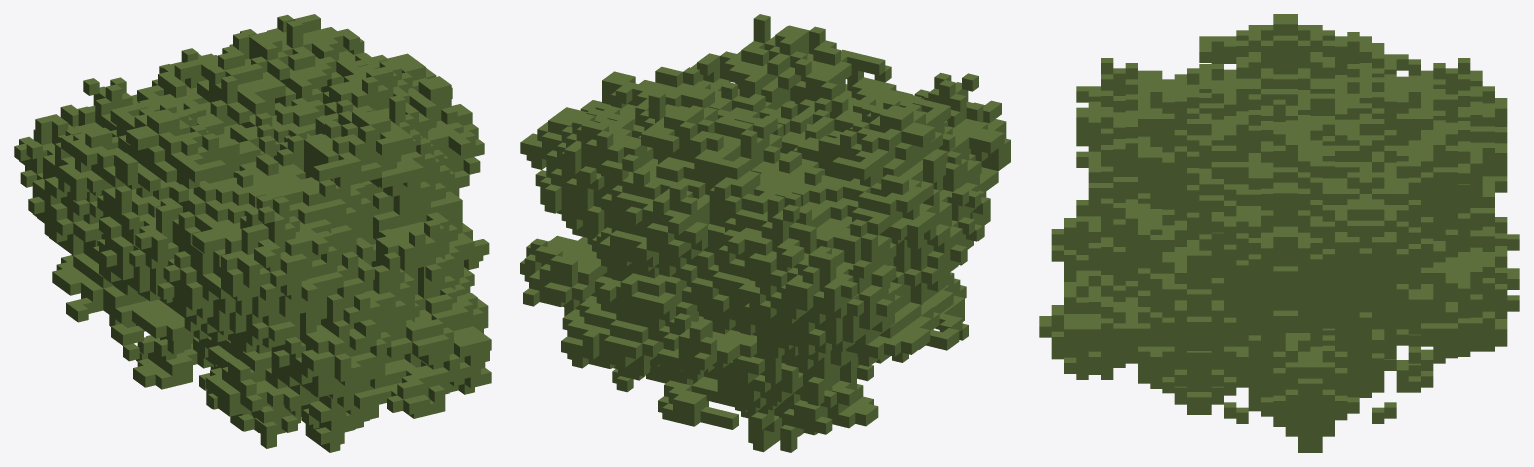
File: good-13.obj
3 renders of one model, left to right at view 1: azimuth 30°, elevation 25°; view 2: azimuth 150°, elevation 25°; view 3: azimuth 270°, elevation 25°, orthographic. The views are drawn at different scales.
Size of the model in its own units: 3.7 by 3.1 by 3.9.
1 material, 1 textured.
